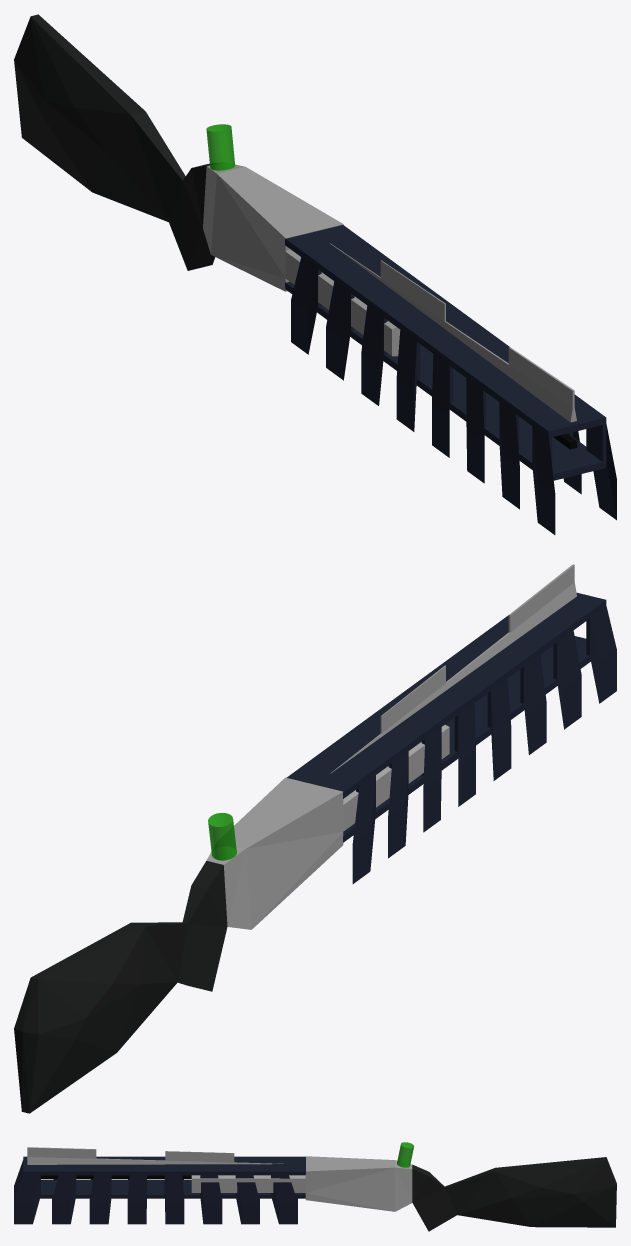
The model's file is NukeRifle.obj.
3 views of the same model, one above another, from view 1: azimuth 30°, elevation 25°; view 2: azimuth 150°, elevation 25°; view 3: azimuth 270°, elevation 25° (orthographic). The views are drawn at different scales.
Parts seen in each view (by area): view 1: Plane; view 2: Plane; view 3: Plane.
Boxes of the visible parts, x1,y1,x2,y2 form: Plane: (14,14,616,534); Plane: (14,564,616,1113); Plane: (14,1142,616,1231).
Bounding box in the file's own units: 1.33 × 3.23 × 20.97.
